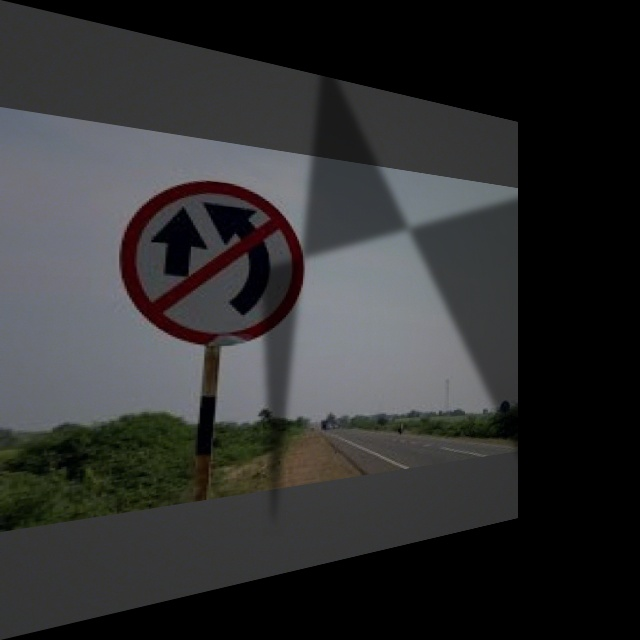Overtaking_Prohibited: (132, 173, 298, 342)
